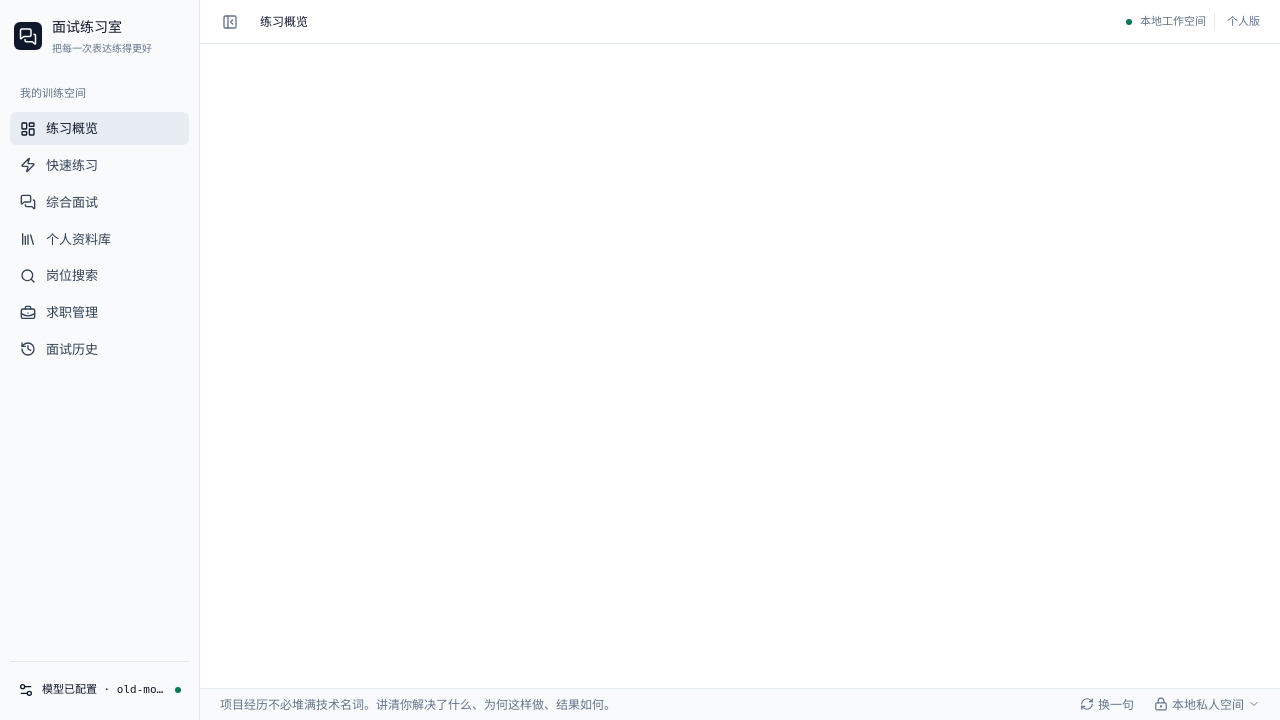
Scenario: 提交保存后关闭弹窗，成功结果仍刷新全站配置
Click the button "模型已配置 · old-model" at (100, 690), box [10, 672, 189, 708]
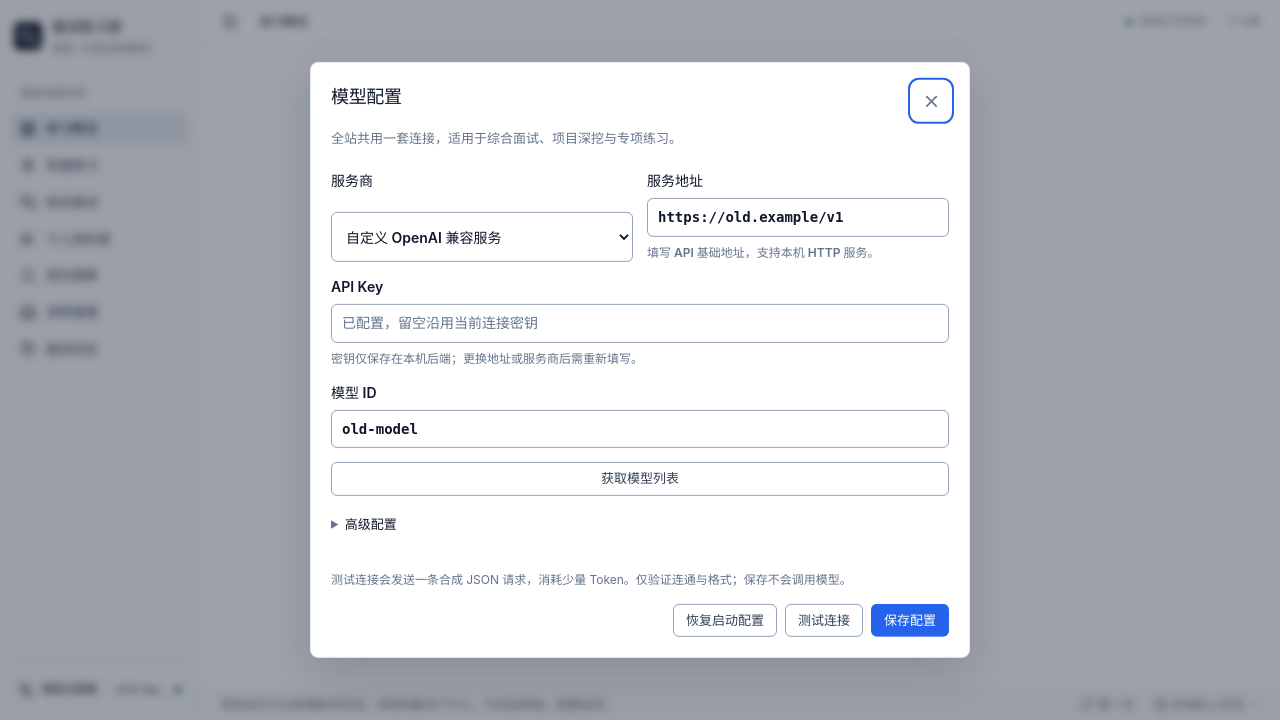
Replace the text in the field labelled "模型 ID" with "late-saved-model" at (640, 429), box [331, 410, 949, 448]
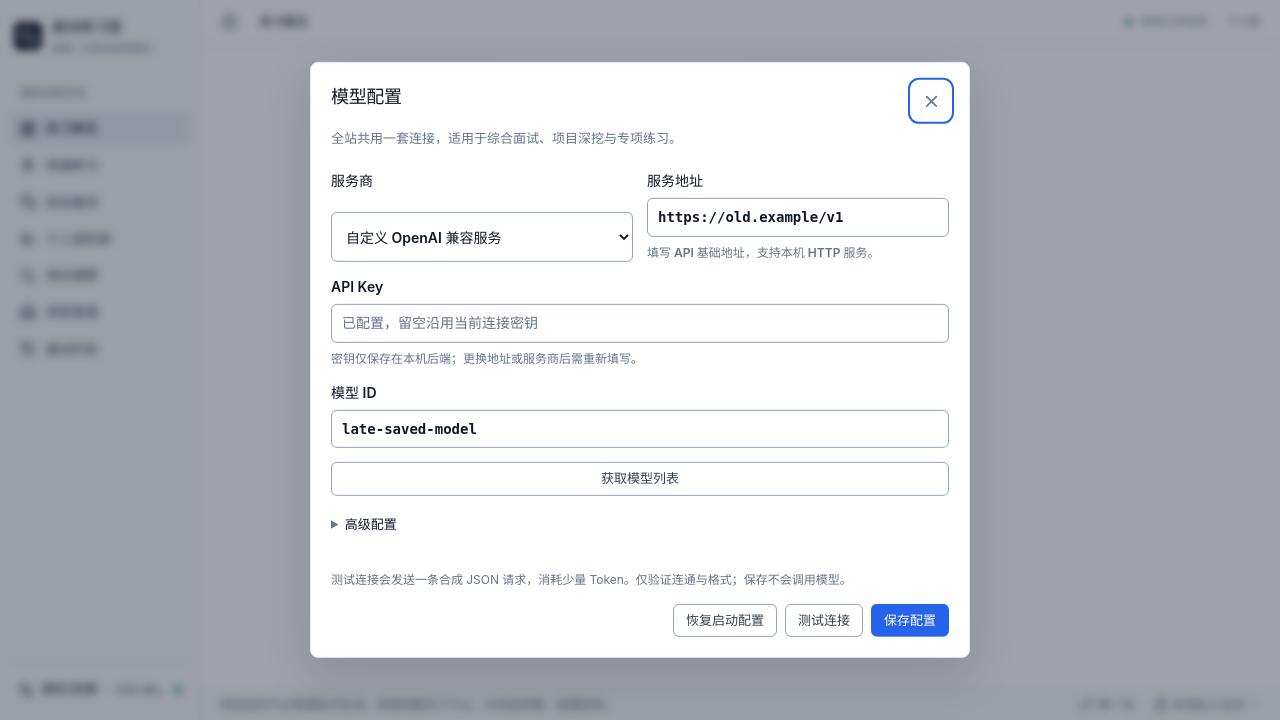
Check: the button "保存配置" is shown
Click the button "保存配置" at (910, 620), box [871, 604, 949, 637]
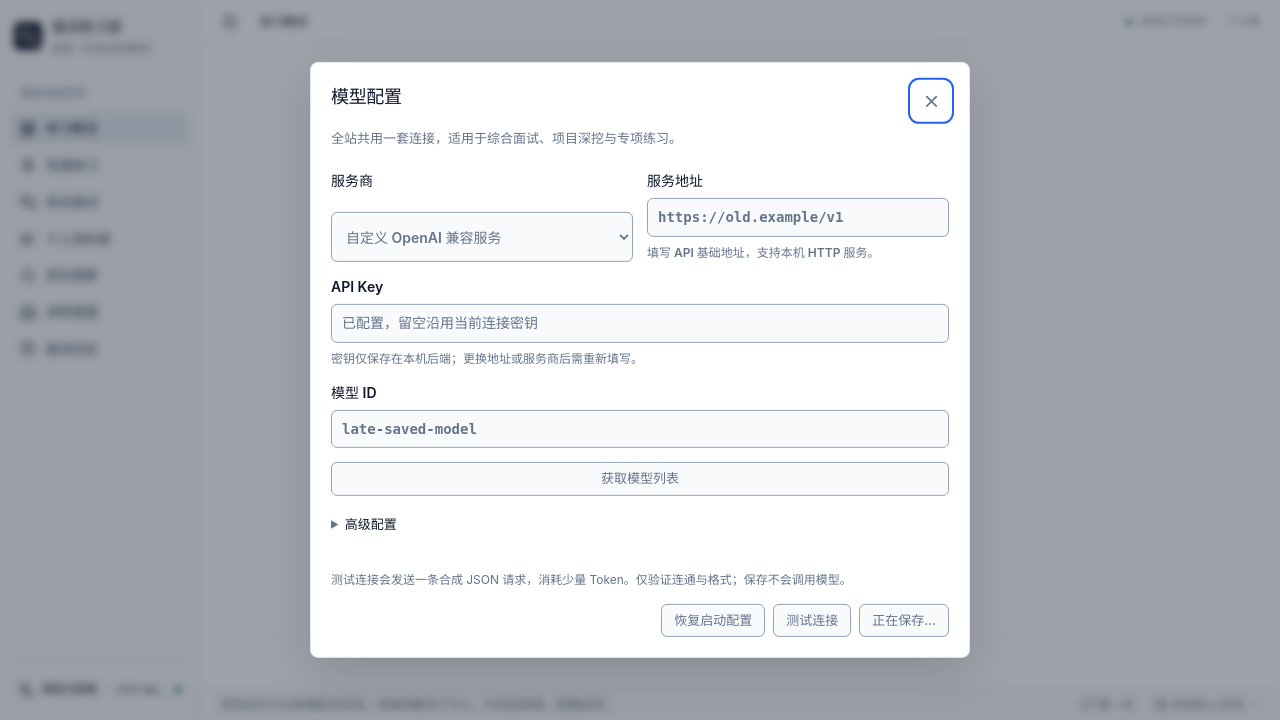
Click the button named "关闭弹窗" at (931, 101), box [913, 83, 949, 119]
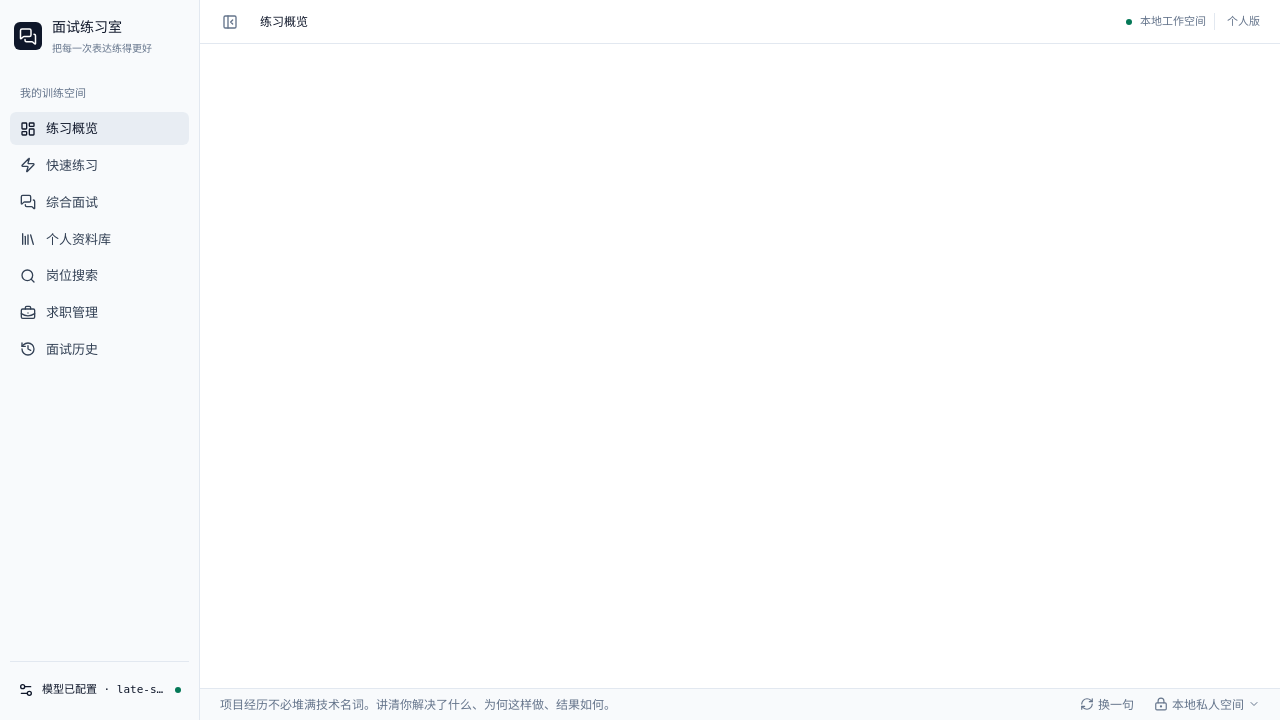
Check: the button "模型已配置 · late-saved-model" is shown, box [10, 672, 189, 708]
Check: the dialog is gone
